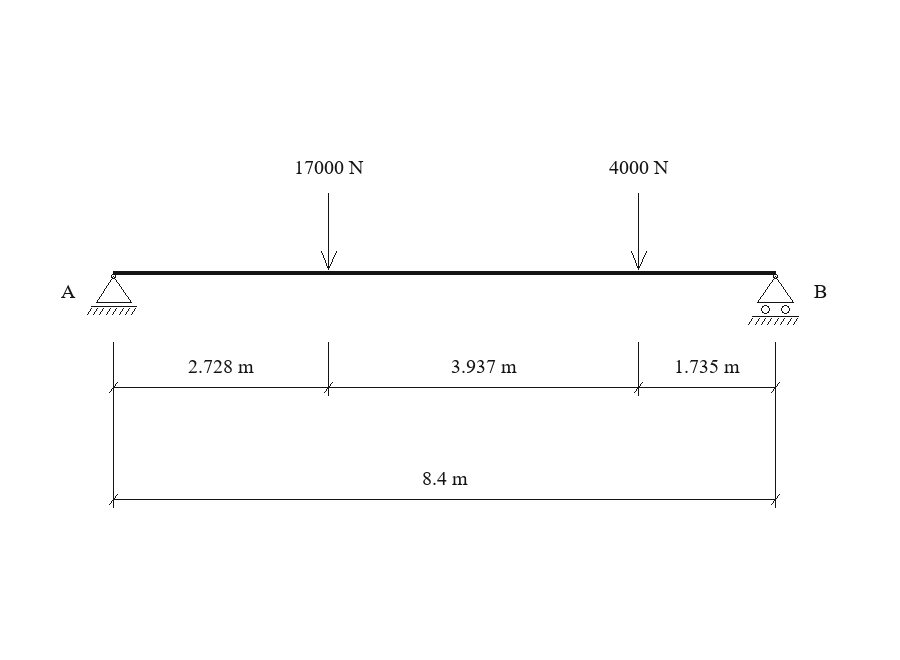pin_support: (87, 274, 137, 315)
point_load: (321, 193, 337, 270), (631, 193, 647, 270)
roller_support: (748, 274, 799, 325)
